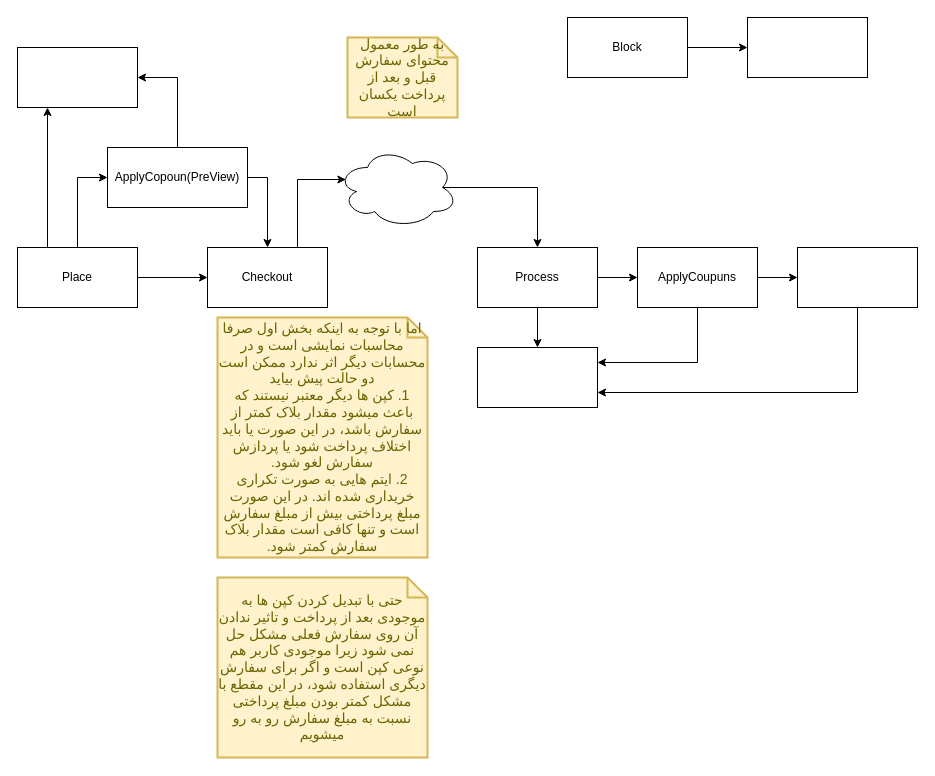
This 935x776 diagram has some shape labels left out. Here are the shapes that lost their labels. From the top down, the box of each, then its label:
(746, 16, 868, 78): Payment
(16, 46, 138, 108): Cancel
(336, 146, 458, 228): PaymentService
(796, 246, 918, 308): ProcessItems
(476, 346, 598, 408): RefundPayment
